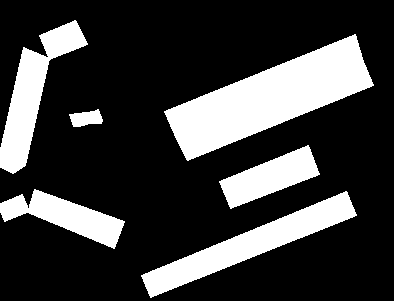parkingspot: (141, 191, 356, 297), (164, 34, 364, 141), (175, 61, 373, 160), (219, 145, 319, 208), (0, 47, 49, 173), (27, 189, 124, 248), (39, 20, 87, 59), (0, 194, 29, 221), (69, 109, 102, 126)
